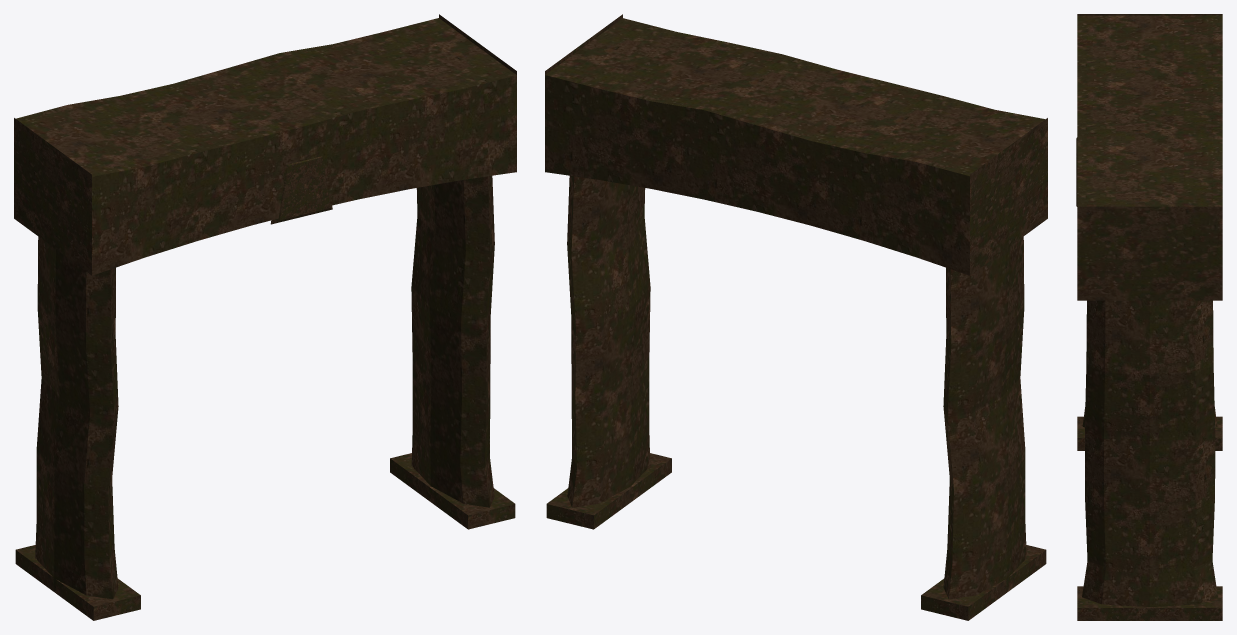
File: dungeon_gate_44_dirt.glb
The picture shows the model from 3 angles, left to right: view 1: azimuth 30°, elevation 25°; view 2: azimuth 150°, elevation 25°; view 3: azimuth 270°, elevation 25°; orthographic projection. The views are drawn at different scales.
Parts seen in each view (by area): view 1: dungeon_gate_44_dirt; view 2: dungeon_gate_44_dirt; view 3: dungeon_gate_44_dirt.
Boxes of the visible parts, bbox=[...] form: dungeon_gate_44_dirt: bbox=[14, 14, 516, 620]; dungeon_gate_44_dirt: bbox=[545, 14, 1047, 620]; dungeon_gate_44_dirt: bbox=[1076, 14, 1222, 620].
Bounding box in the file's own units: 4.4 × 4.42 × 1.41.
1 material, 1 textured.
